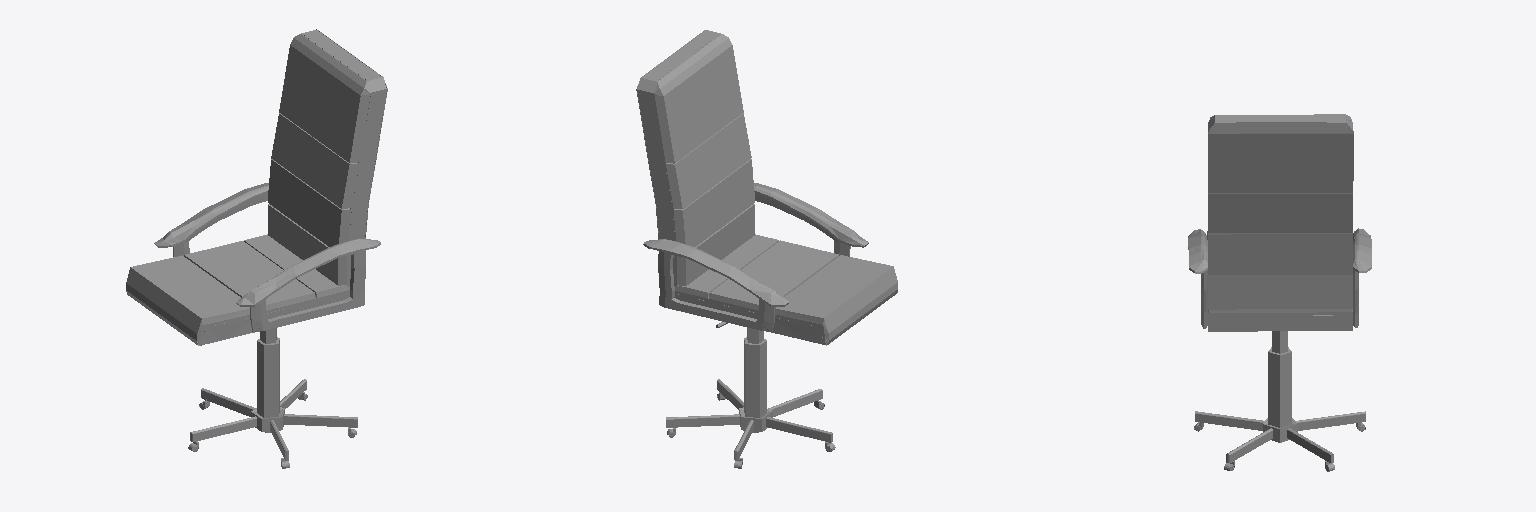
The model's file is deskChairRotated.obj.
The picture shows the model from 3 angles: view 1: azimuth 30°, elevation 25°; view 2: azimuth 150°, elevation 25°; view 3: azimuth 270°, elevation 25°; orthographic projection.
Parts seen in each view (by area): view 1: chair_Cube.001; view 2: chair_Cube.001; view 3: chair_Cube.001.
Part boxes in pixels (bbox=[...]): chair_Cube.001: bbox=[126, 29, 387, 468]; chair_Cube.001: bbox=[636, 30, 897, 468]; chair_Cube.001: bbox=[1188, 114, 1371, 471].
Size of the model in its own units: 2.13 by 3.82 by 1.77.